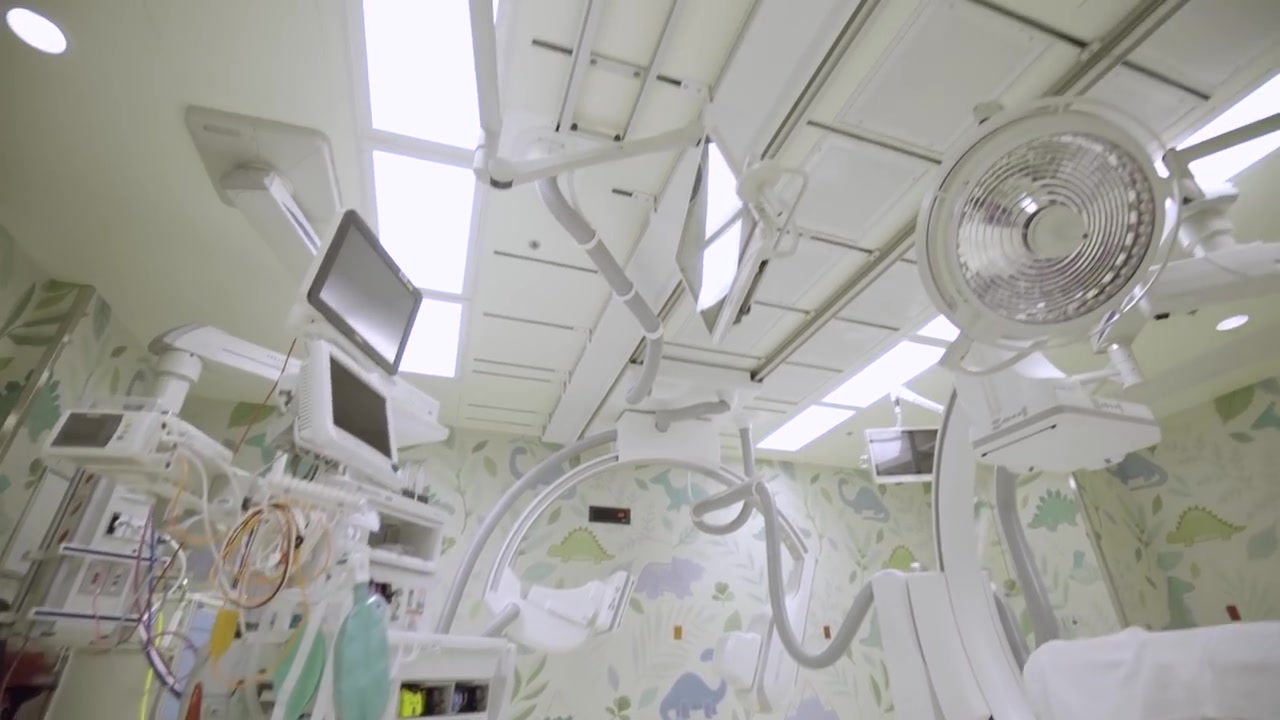bedside_monitor: (675, 128, 778, 347), (303, 207, 424, 379), (295, 338, 404, 490), (863, 427, 940, 484)
breathing_tube: (166, 444, 421, 720)
surgical_light: (913, 95, 1180, 372)
ventilator: (168, 467, 523, 720)
